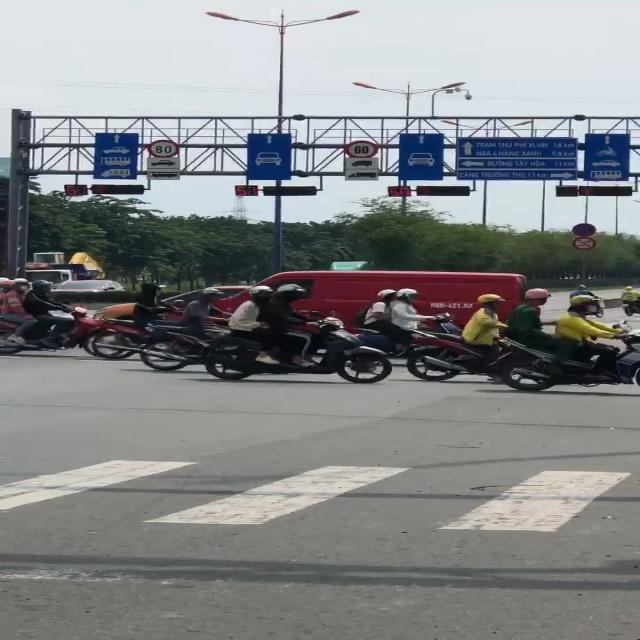Bien bao toc do toi da cho phep: (339, 138, 382, 160), (144, 138, 186, 158)
